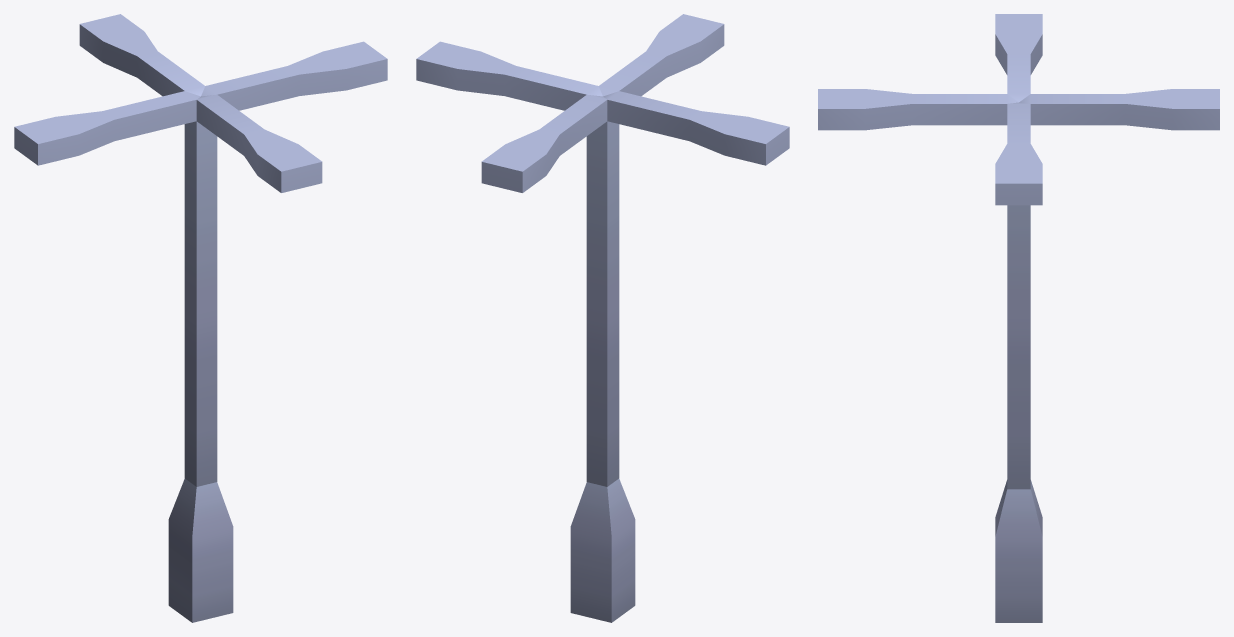
The model's file is light-square-cross.glb.
3 views of the same model, side by side, from view 1: azimuth 30°, elevation 25°; view 2: azimuth 150°, elevation 25°; view 3: azimuth 270°, elevation 25° (orthographic).
Visible parts, largest first — view 1: light-square-cross; view 2: light-square-cross; view 3: light-square-cross.
Boxes of the visible parts, x1=… form: light-square-cross: x1=14, y1=14, x2=387, y2=622; light-square-cross: x1=416, y1=14, x2=789, y2=622; light-square-cross: x1=818, y1=14, x2=1219, y2=622.
Bounding box in the file's own units: 0.425 × 0.6 × 0.425.
Materials: 1 (1 with a texture image).
